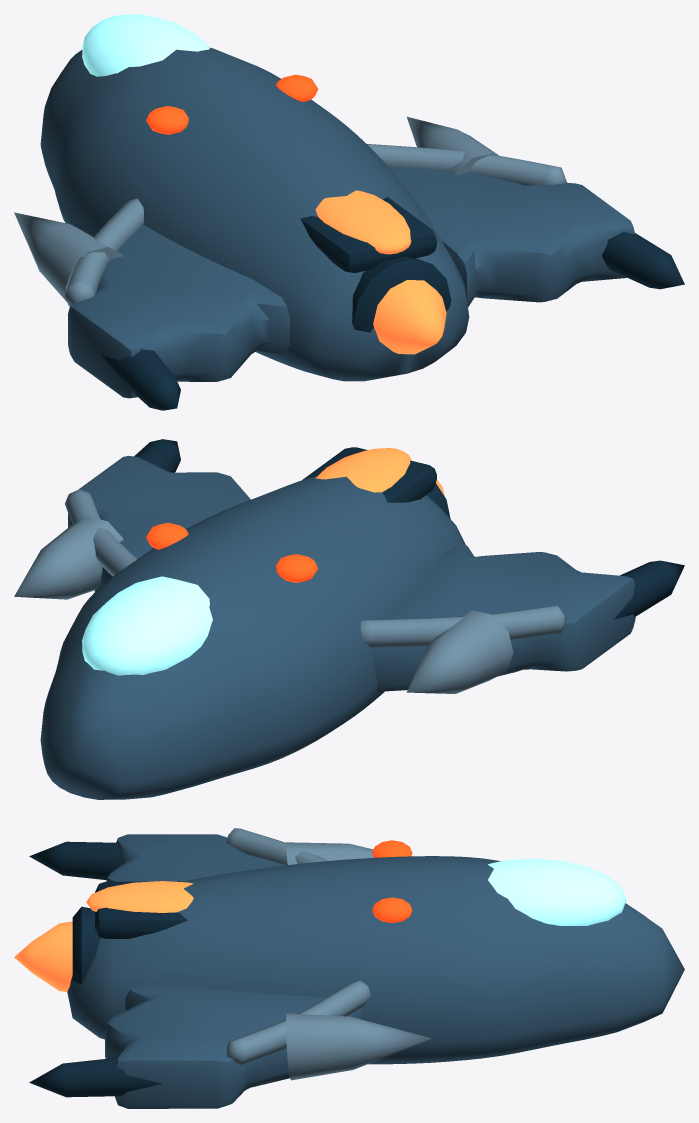
File: sk_sideship.glb
3 views of the same model, one above another, from view 1: azimuth 30°, elevation 25°; view 2: azimuth 150°, elevation 25°; view 3: azimuth 270°, elevation 25° (orthographic). The views are drawn at different scales.
Visible parts, largest first — view 1: body, wing, wing.001, canopy, flame, vent_glow, spike, wing_edge.001, vent, nozzle, tip.001, wing_edge (+4 smaller); view 2: body, wing, canopy, wing.001, spike, spike.001, wing_edge, vent_glow, tip, wing_edge.001, vent, tip.001 (+2 smaller); view 3: body, wing.001, canopy, spike.001, wing, tip.001, wing_edge.001, vent_glow, flame, tip, vent, nozzle (+4 smaller).
Part boxes in pixels (x1,y1,x2,y2): body: (40,47,469,381); wing: (68,224,289,398); wing.001: (389,167,634,307); canopy: (82,14,209,76); flame: (373,280,446,354); vent_glow: (315,190,411,254); spike: (14,212,123,301); wing_edge.001: (367,144,567,184); vent: (300,197,436,272); nozzle: (352,256,451,332); tip.001: (601,231,684,289); wing_edge: (64,198,143,306); body: (40,476,465,799); wing: (372,544,635,691); canopy: (82,576,212,675); wing.001: (68,456,250,591); spike: (406,610,513,693); spike.001: (14,516,123,599); wing_edge: (360,606,567,647); vent_glow: (315,448,410,492); tip: (614,560,684,619); wing_edge.001: (65,489,136,576); vent: (302,447,436,502); tip.001: (134,439,180,472); body: (67,856,684,1064); wing.001: (105,985,361,1108); canopy: (488,858,626,925); spike.001: (286,1013,431,1080); wing: (106,834,286,881); tip.001: (29,1057,162,1097); wing_edge.001: (226,980,370,1065); vent_glow: (86,881,193,912); flame: (14,921,72,992); tip: (29,841,120,880); vent: (95,881,187,938); nozzle: (72,906,100,984).
Bounding box in the file's own units: 12.44 × 4.16 × 14.9.
